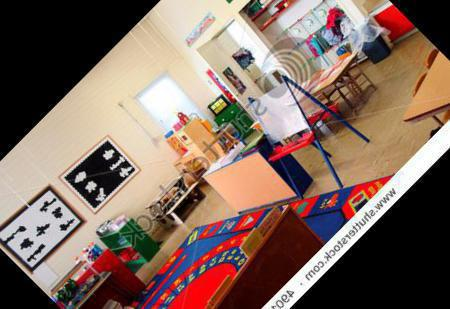Bote de Basura: (341, 13, 399, 71)
Otro Obstaculo: (228, 70, 373, 215)
Puerta: (189, 36, 273, 119)
